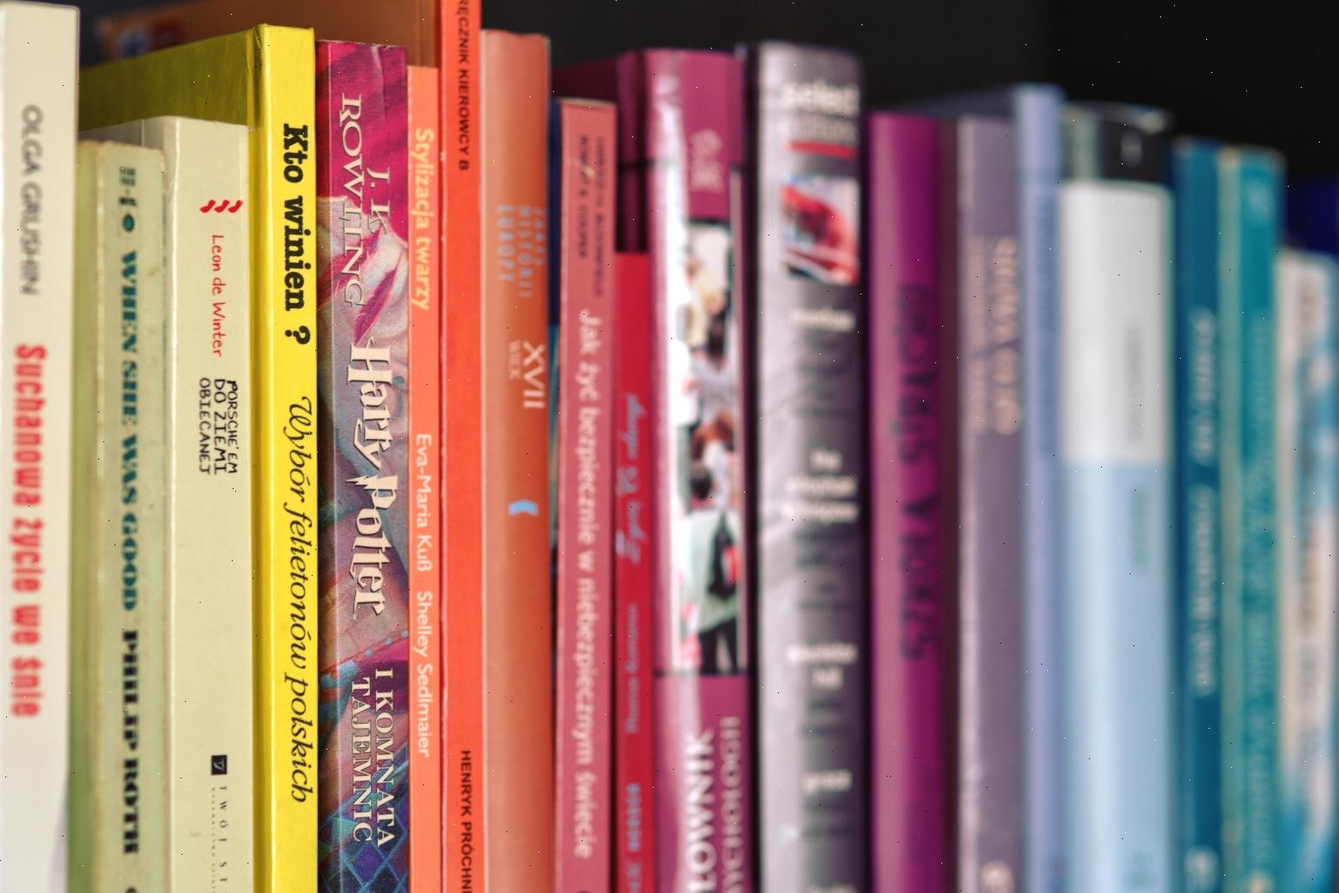book: (743, 43, 870, 893), (636, 50, 748, 893), (862, 98, 966, 893), (160, 92, 258, 893), (465, 24, 552, 893), (70, 137, 170, 893), (0, 0, 82, 893), (947, 97, 1038, 893), (547, 69, 621, 893), (1210, 148, 1288, 893), (257, 23, 323, 893), (435, 0, 493, 893), (1169, 136, 1235, 893), (604, 69, 661, 893), (399, 57, 446, 893), (1280, 248, 1339, 888)
